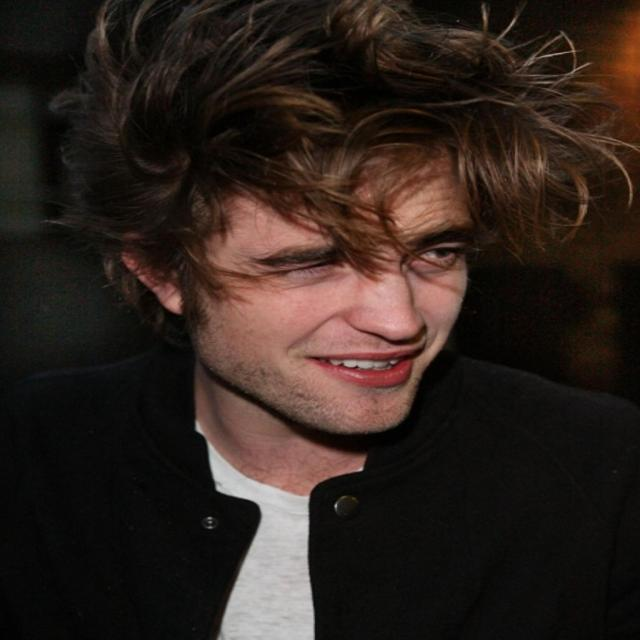Face: (193, 161, 485, 445)
